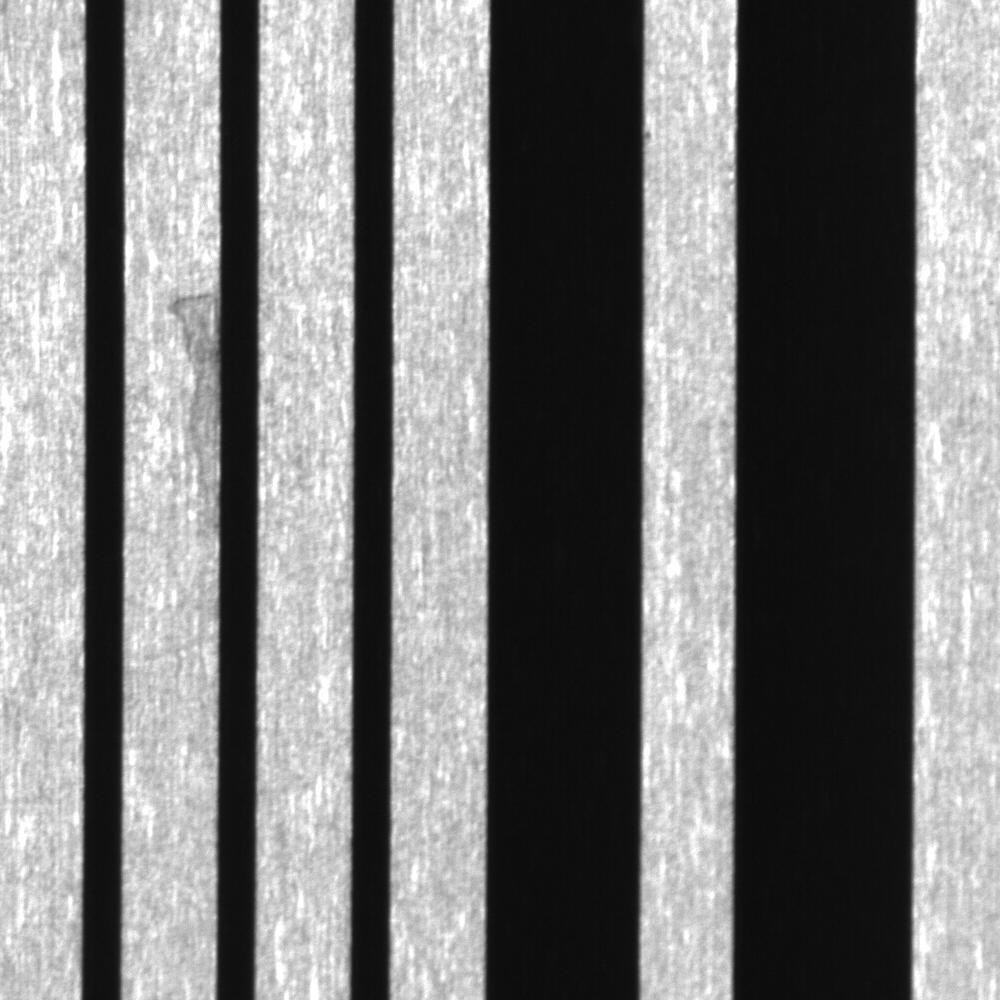Discolor: (162, 281, 220, 547)
